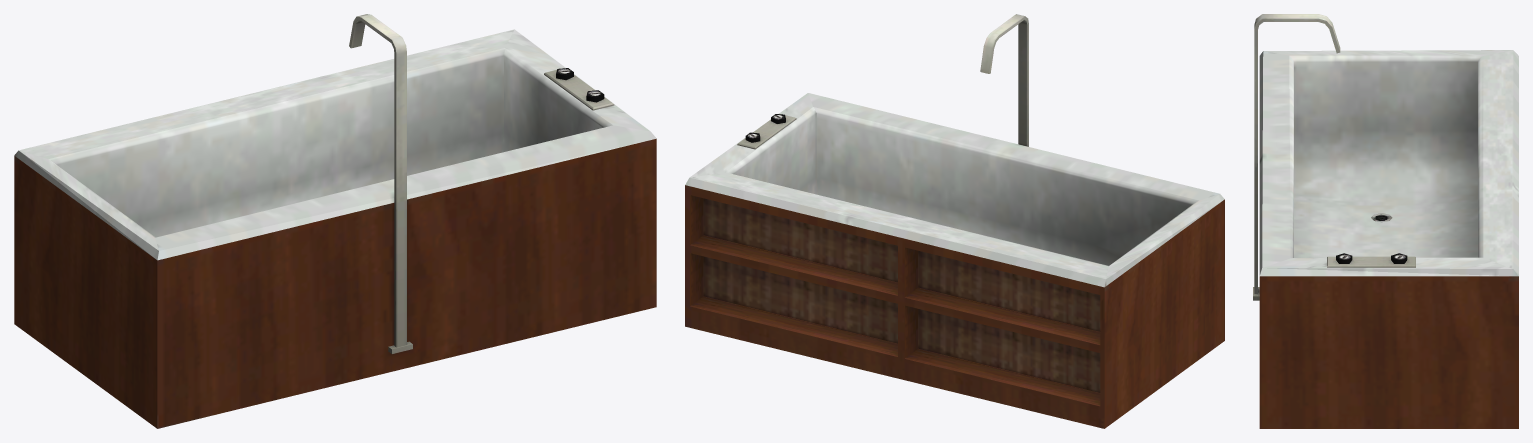
The model's file is furni_0200493.FBX.
The picture shows the model from 3 angles, left to right: view 1: azimuth 30°, elevation 25°; view 2: azimuth 150°, elevation 25°; view 3: azimuth 270°, elevation 25°; orthographic projection. The views are drawn at different scales.
Visible parts, largest first — view 1: furni_0200493; view 2: furni_0200493; view 3: furni_0200493.
Boxes of the visible parts, x1,y1,x2,y2 form: furni_0200493: (14, 14, 656, 428); furni_0200493: (685, 14, 1224, 428); furni_0200493: (1253, 14, 1518, 428).
Size of the model in its own units: 142 by 89.63 by 72.29.
1 material, 1 textured.
